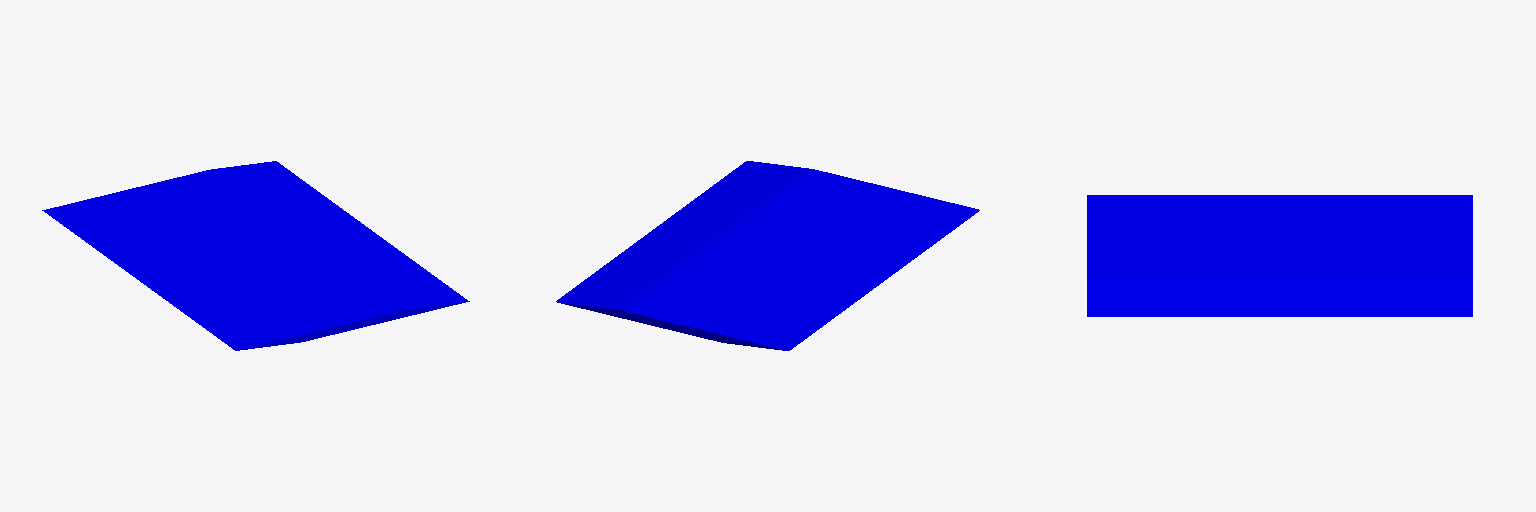
Rendered from planes_1-dynamic - BLK2GO-3630355-Scan 080 46.obj.
3 views of the same model, side by side, from view 1: azimuth 30°, elevation 25°; view 2: azimuth 150°, elevation 25°; view 3: azimuth 270°, elevation 25° (orthographic).
Visible parts, largest first — view 1: 1-dynamic_-_BLK2GO-[number redacted]-Scan_080_46_0; view 2: 1-dynamic_-_BLK2GO-[number redacted]-Scan_080_46_0; view 3: 1-dynamic_-_BLK2GO-[number redacted]-Scan_080_46_0.
Part boxes in pixels (bbox=[...]): 1-dynamic_-_BLK2GO-[number redacted]-Scan_080_46_0: bbox=[42, 161, 469, 350]; 1-dynamic_-_BLK2GO-[number redacted]-Scan_080_46_0: bbox=[556, 161, 979, 350]; 1-dynamic_-_BLK2GO-[number redacted]-Scan_080_46_0: bbox=[1087, 195, 1472, 316].
Bounding box in the file's own units: 1.42 × 0.0456 × 2.02.